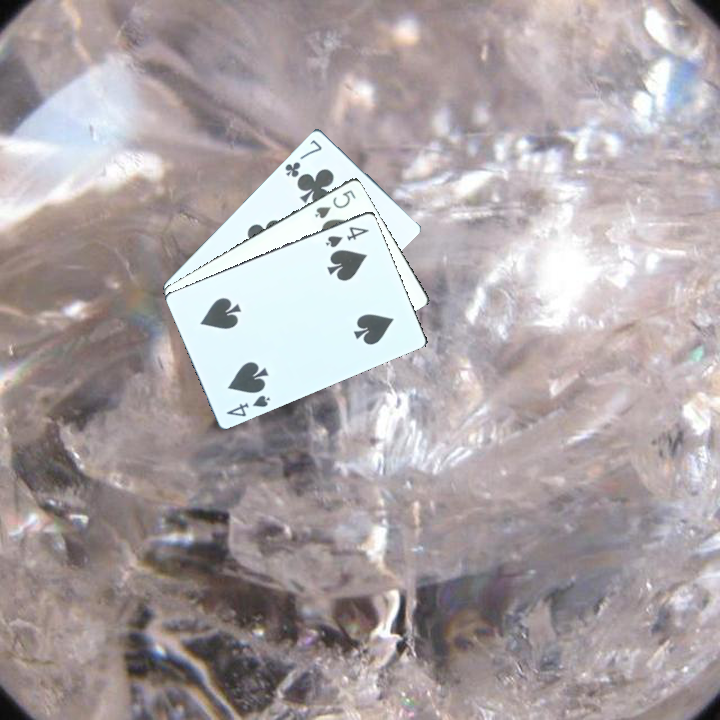4s: (322, 222, 372, 250), (222, 391, 272, 419)
5s: (310, 186, 358, 221)
7c: (281, 136, 325, 180)
